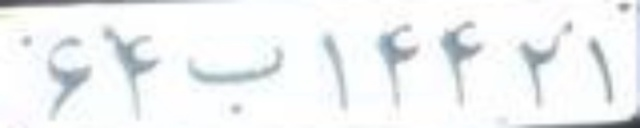1: (318, 31, 351, 113), (582, 34, 619, 106)
2: (514, 33, 561, 108)
4: (436, 21, 493, 110), (108, 34, 161, 122), (372, 23, 418, 116)
6: (35, 36, 95, 121)
be: (179, 41, 286, 116)
